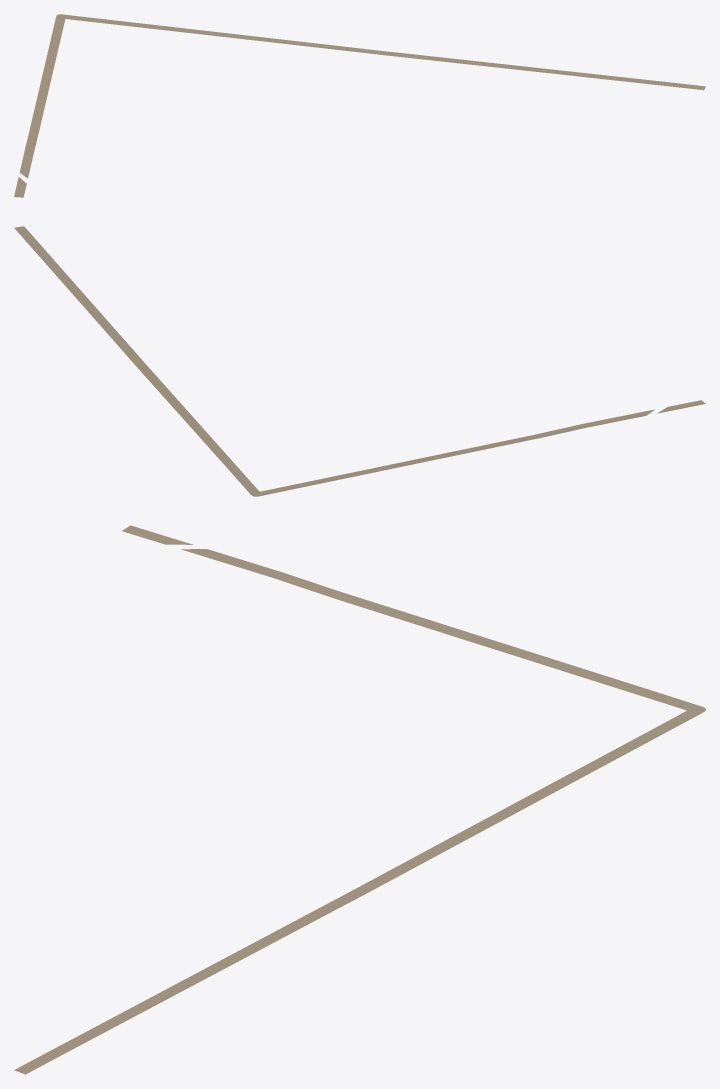
Rendered from farm_8_6_track.glb.
The picture shows the model from 3 angles, top to bottom: view 1: azimuth 30°, elevation 25°; view 2: azimuth 150°, elevation 25°; view 3: azimuth 270°, elevation 25°; orthographic projection. The views are drawn at different scales.
Parts seen in each view (by area): view 1: geometry_0; view 2: geometry_0; view 3: geometry_0.
Part boxes in pixels (x1,y1,x2,y2): geometry_0: (14, 14, 705, 197); geometry_0: (14, 226, 705, 496); geometry_0: (14, 525, 705, 1074).
Bounding box in the file's own units: 258 × 9.67 × 148.
